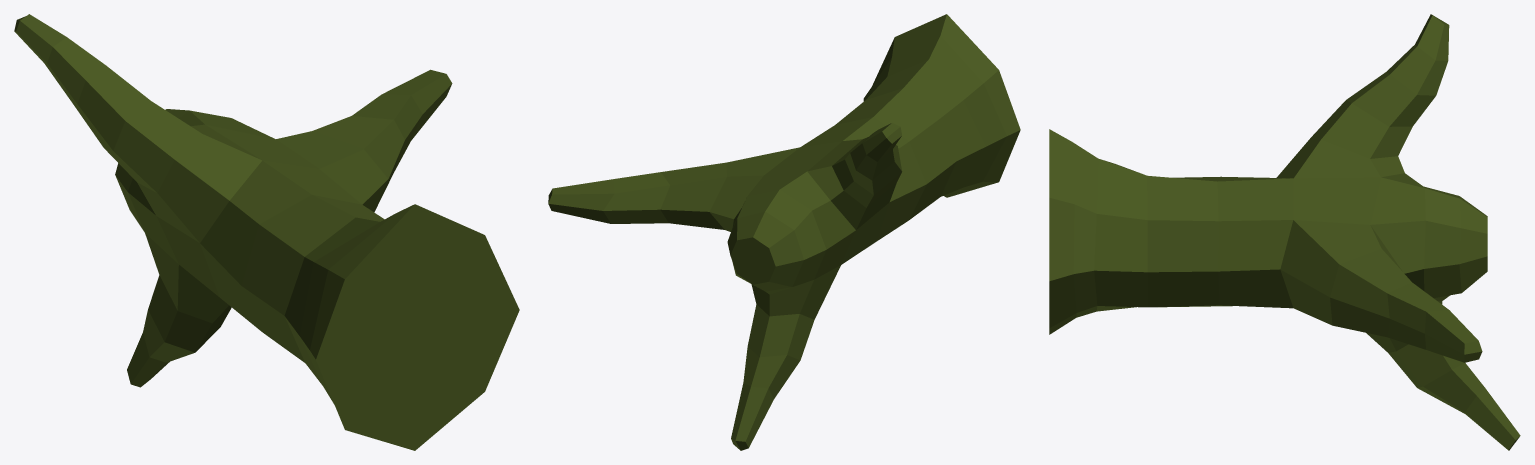
The model's file is WillowTree_2_X.fbx.
The picture shows the model from 3 angles, left to right: view 1: azimuth 30°, elevation 25°; view 2: azimuth 150°, elevation 25°; view 3: azimuth 270°, elevation 25°; orthographic projection. The views are drawn at different scales.
Visible parts, largest first — view 1: WillowTree_2_X; view 2: WillowTree_2_X; view 3: WillowTree_2_X.
Boxes of the visible parts, x1,y1,x2,y2 form: WillowTree_2_X: (14,14,519,450); WillowTree_2_X: (548,14,1020,450); WillowTree_2_X: (1049,14,1520,450).
Bounding box in the file's own units: 169 × 158 × 182.
